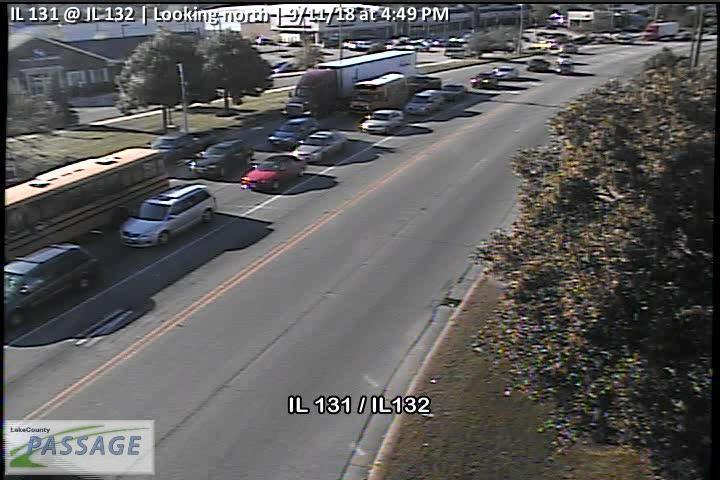SUV: (1, 242, 100, 330), (116, 182, 217, 247), (190, 138, 255, 175), (405, 88, 443, 115)
Sedan: (240, 155, 306, 192), (293, 129, 346, 163), (267, 115, 321, 147), (360, 109, 404, 133), (468, 70, 498, 89), (441, 81, 467, 101), (492, 64, 517, 78)
Truck: (283, 48, 417, 118), (349, 72, 443, 118)
